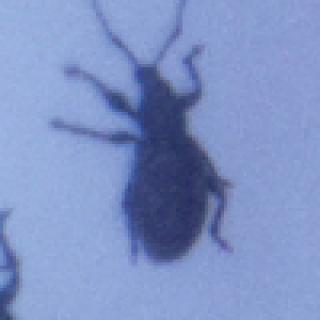bvw: (51, 0, 248, 268)
